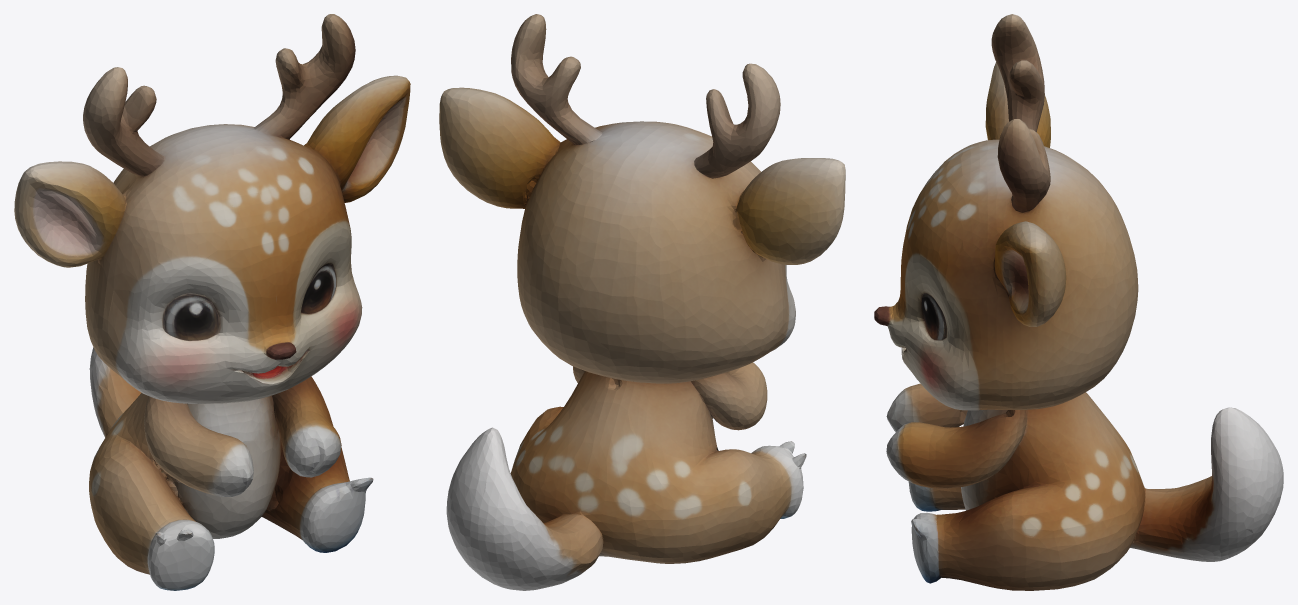
Rendered from deer.glb.
3 renders of one model, left to right at view 1: azimuth 30°, elevation 25°; view 2: azimuth 150°, elevation 25°; view 3: azimuth 270°, elevation 25°, orthographic. The views are drawn at different scales.
Parts seen in each view (by area): view 1: world; view 2: world; view 3: world.
Part boxes in pixels (box(x1,y1,x2,y2)): world: box(14, 14, 410, 590); world: box(439, 14, 845, 590); world: box(874, 14, 1283, 590).
Size of the model in its own units: 0.8482 by 0.9998 by 0.7684.
1 material, 1 textured.
